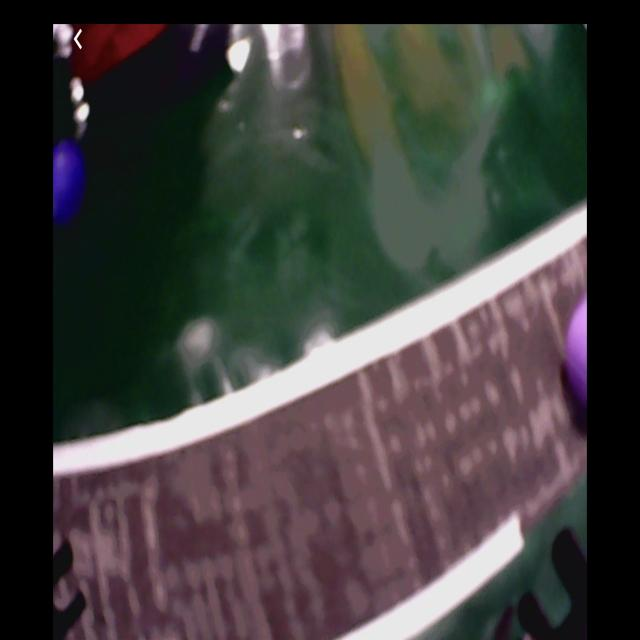ball: (559, 301, 586, 415), (52, 137, 79, 228)
